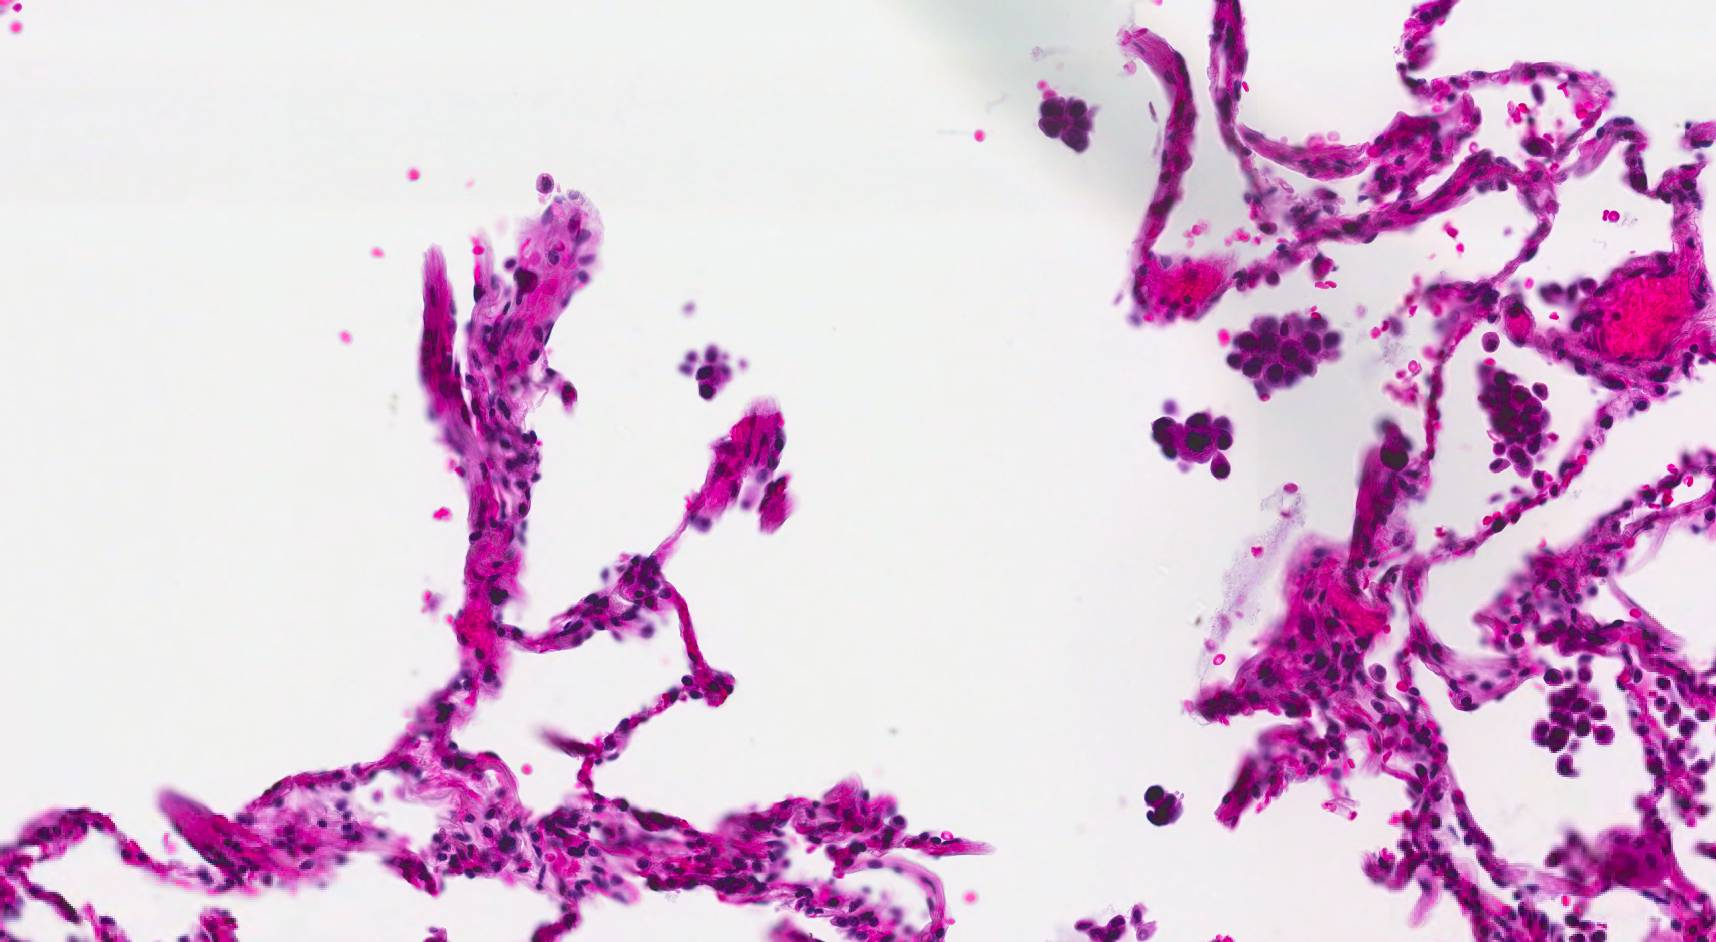stas: (1221, 307, 1344, 394), (1151, 404, 1240, 478), (675, 337, 740, 399), (1035, 92, 1099, 154), (1141, 781, 1187, 828)
